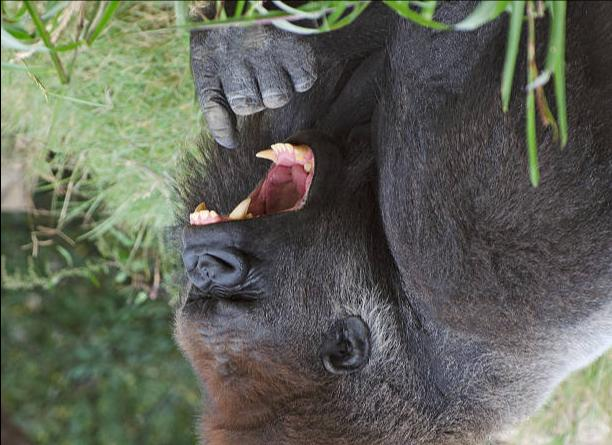gorille_Autres: (144, 0, 612, 445)
